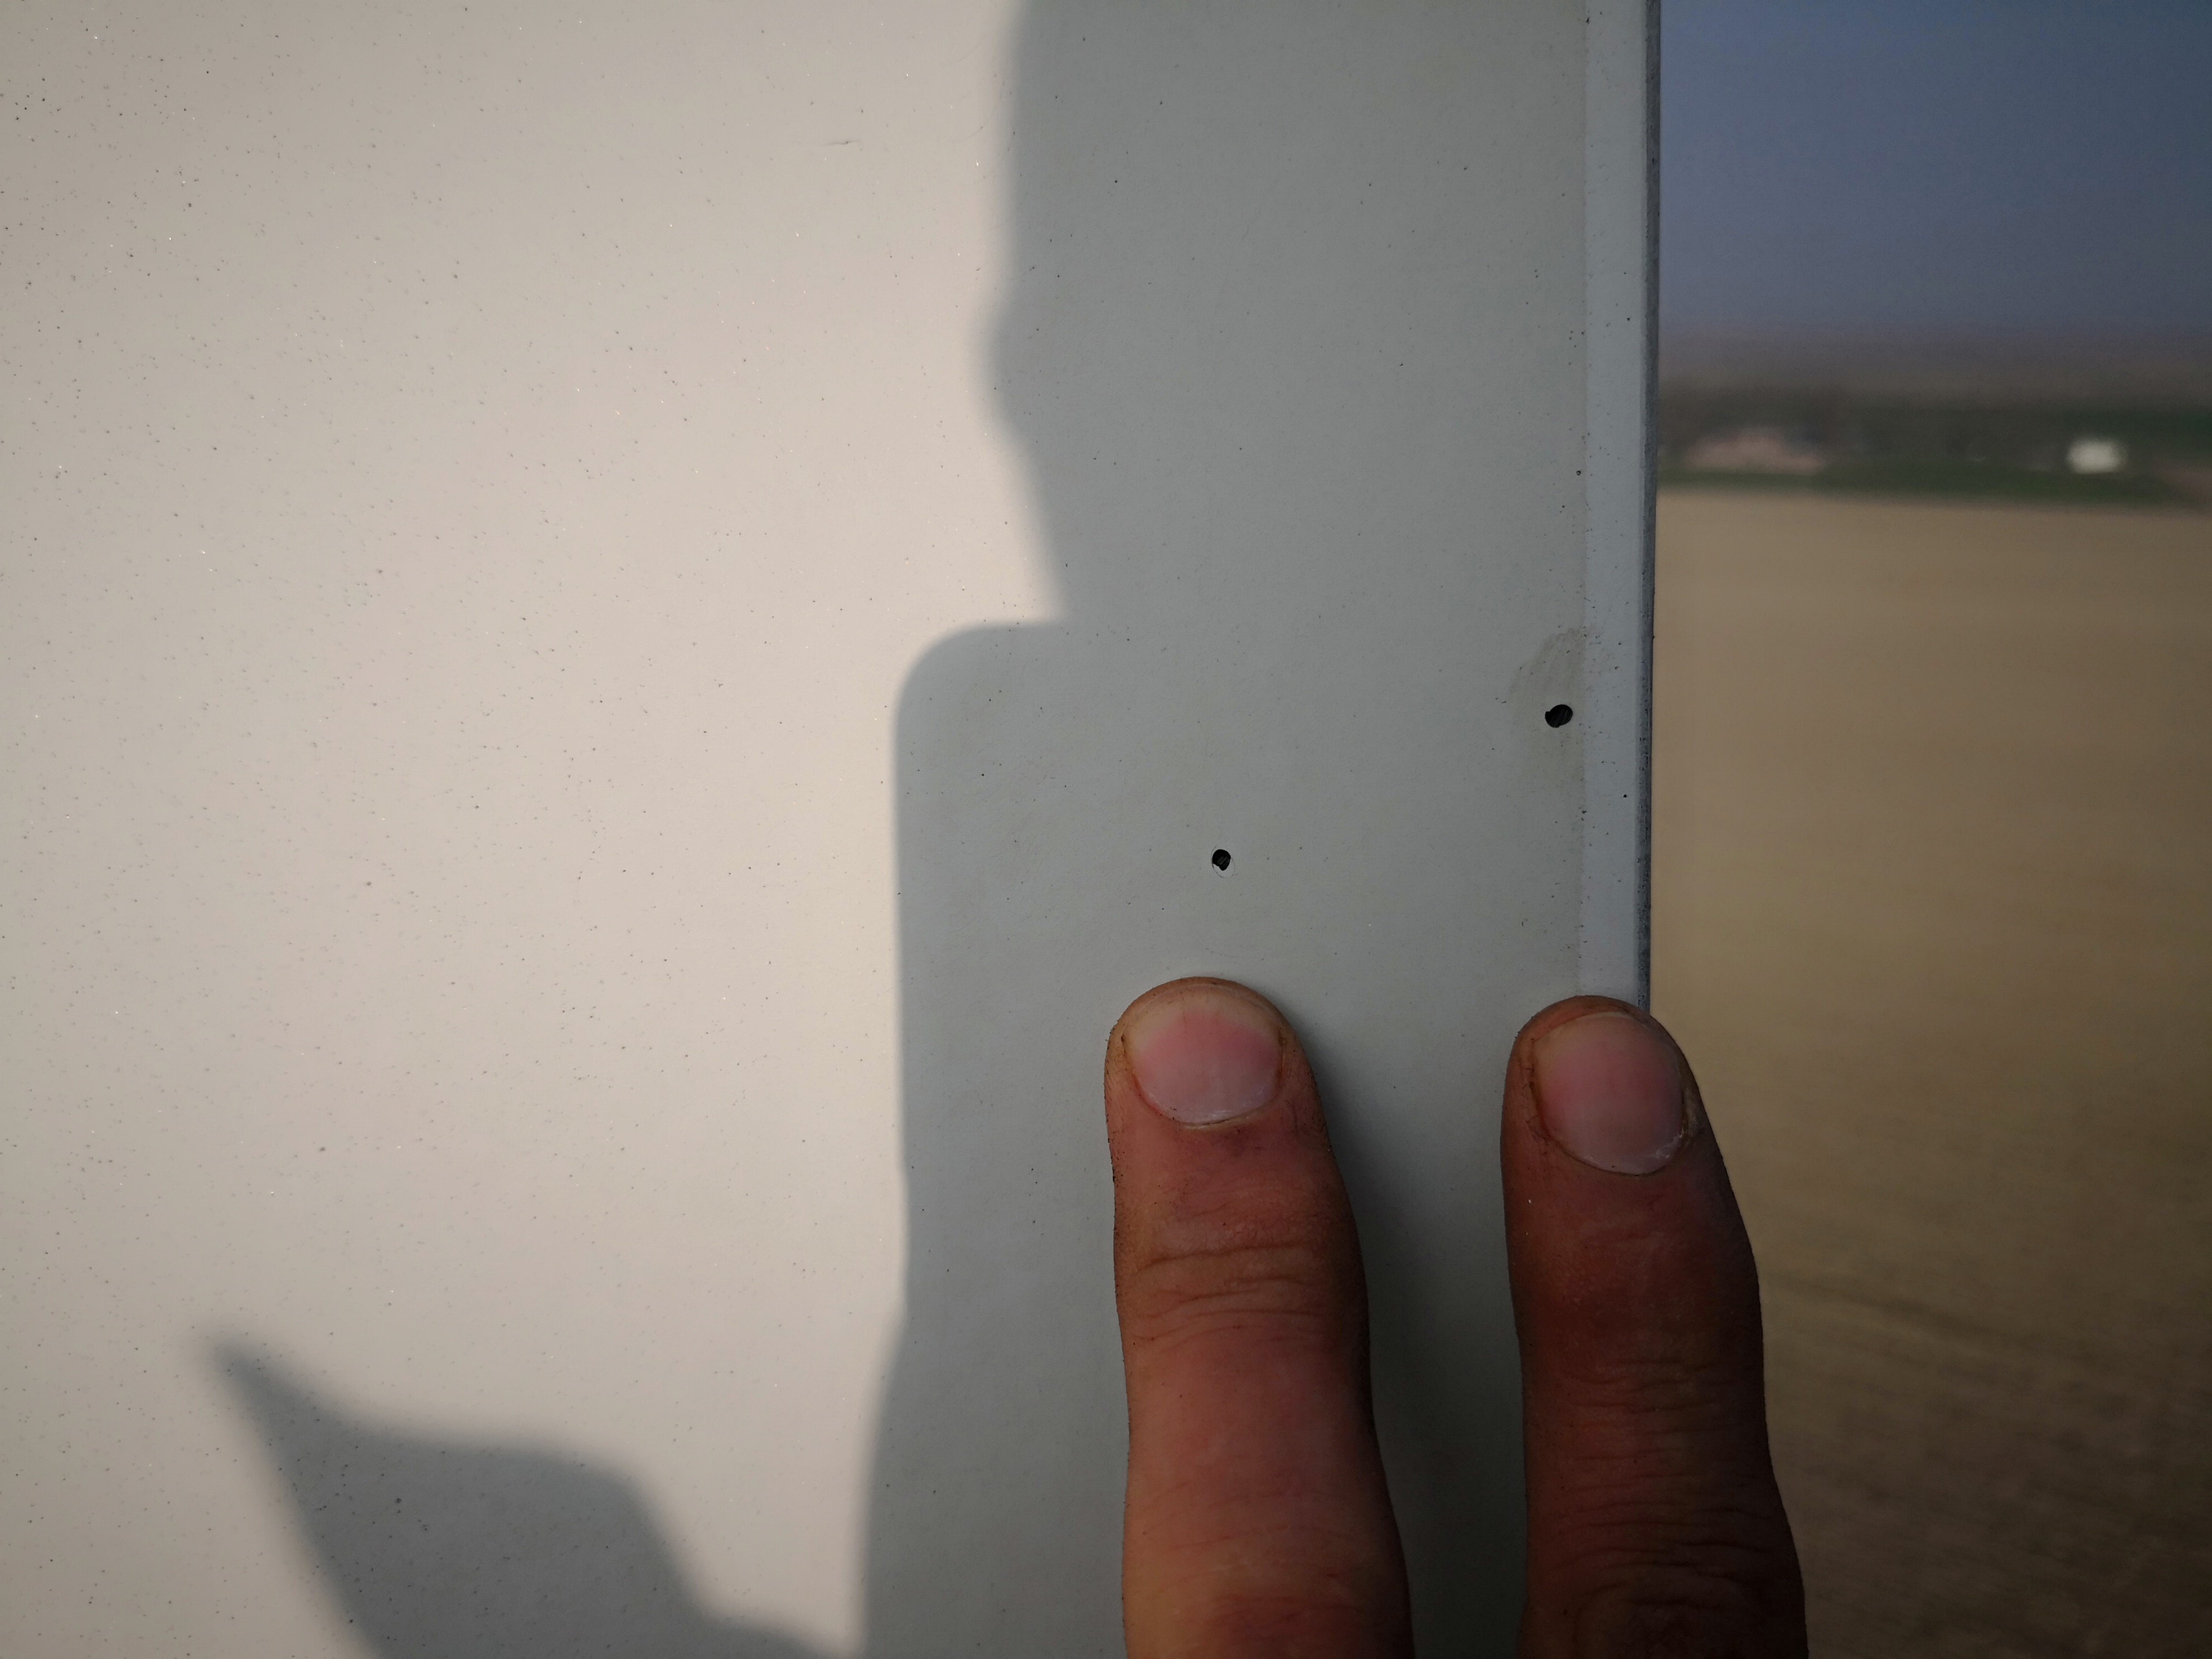SD: (1195, 835, 1247, 885), (1524, 695, 1575, 734)
